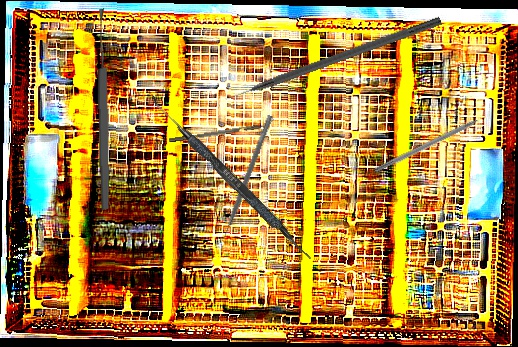Chopper: (167, 118, 276, 143)
Hook Surgical: (223, 14, 442, 103), (373, 110, 495, 175)
Spatula Surgical: (145, 95, 317, 262), (215, 112, 274, 244)
Surgical Spoon: (95, 8, 112, 210)
